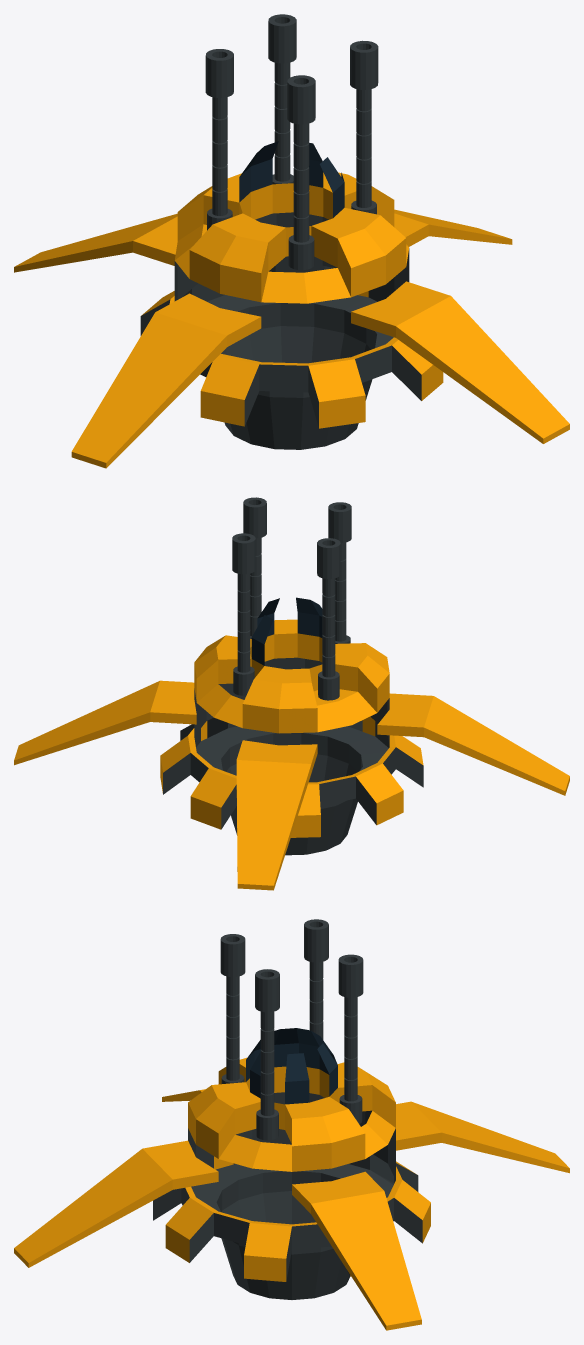
3 views of the same model, one above another, from view 1: azimuth 30°, elevation 25°; view 2: azimuth 150°, elevation 25°; view 3: azimuth 270°, elevation 25° (orthographic). The views are drawn at different scales.
Parts seen in each view (by area): view 1: Circle, Circle.001, Cylinder.009; view 2: Circle, Circle.001, Cylinder.009; view 3: Circle, Circle.001, Cylinder.009.
Boxes of the visible parts, box(x1,y1,x2,y2) form: Circle: box(140, 141, 443, 449); Circle.001: box(14, 209, 569, 468); Cylinder.009: box(205, 14, 378, 270); Circle: box(160, 597, 423, 855); Circle.001: box(14, 680, 569, 890); Cylinder.009: box(232, 497, 351, 700); Circle: box(153, 1028, 430, 1299); Circle.001: box(14, 1089, 569, 1330); Cylinder.009: box(220, 919, 363, 1140).
Size of the model in its own units: 3.59 by 2.32 by 3.59.
